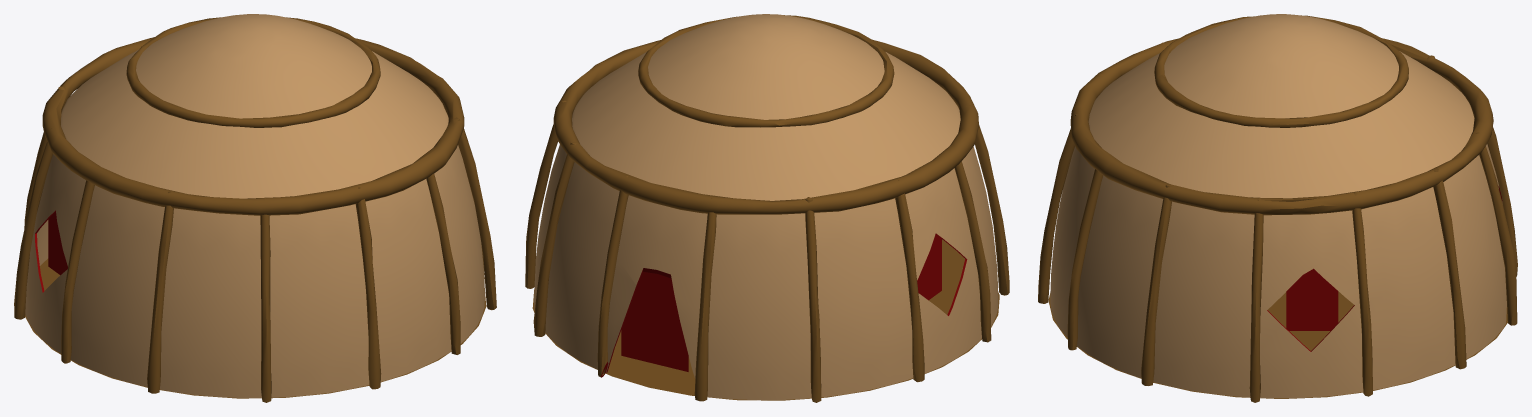
Rendered from Häuser-Wichtel.fbx.
3 views of the same model, side by side, from view 1: azimuth 30°, elevation 25°; view 2: azimuth 150°, elevation 25°; view 3: azimuth 270°, elevation 25° (orthographic).
Visible parts, largest first — view 1: Oil_Tank, ast_oben, ast_oben_2, Cylinder_5, Cylinder_3, Cylinder_1, Cylinder_1_4, Cylinder_1_6, Cylinder_7, Cylinder_1_2_3, boden, vorhang_links (+1 smaller); view 2: Oil_Tank, ast_oben, türe, ast_oben_2, boden, Cylinder_9, Cylinder_7, Cylinder_1_8, Cylinder_11, Cylinder_1_6, Cylinder_1_10, Cylinder_5 (+2 smaller); view 3: Oil_Tank, ast_oben, ast_oben_2, vorhang_rechts, Cylinder_11, Cylinder_1, Cylinder_1_0, Cylinder_1_12, Cylinder_1_10, Cylinder_1_2_3, Cylinder_3, boden (+1 smaller).
Part boxes in pixels (x1,y1,x2,y2): Oil_Tank: [25, 14, 484, 397]; ast_oben: [42, 37, 464, 215]; ast_oben_2: [126, 17, 380, 127]; Cylinder_5: [147, 190, 173, 393]; Cylinder_3: [355, 187, 381, 389]; Cylinder_1: [452, 117, 496, 310]; Cylinder_1_4: [260, 197, 271, 402]; Cylinder_1_6: [61, 180, 94, 363]; Cylinder_7: [14, 128, 56, 319]; Cylinder_1_2_3: [426, 173, 460, 354]; boden: [25, 258, 486, 398]; vorhang_links: [48, 212, 67, 275]; Oil_Tank: [534, 14, 998, 400]; ast_oben: [553, 39, 978, 214]; türe: [621, 272, 688, 371]; ast_oben_2: [638, 14, 894, 127]; boden: [532, 239, 999, 400]; Cylinder_9: [694, 196, 716, 401]; Cylinder_7: [895, 178, 924, 382]; Cylinder_1_8: [805, 197, 821, 402]; Cylinder_11: [533, 142, 577, 336]; Cylinder_1_6: [954, 161, 991, 342]; Cylinder_1_10: [597, 176, 628, 377]; Cylinder_5: [965, 105, 1009, 295]; Oil_Tank: [1050, 14, 1506, 398]; ast_oben: [1070, 38, 1493, 215]; ast_oben_2: [1154, 15, 1408, 127]; vorhang_rechts: [1286, 268, 1338, 330]; Cylinder_11: [1432, 168, 1466, 369]; Cylinder_1: [1141, 184, 1172, 385]; Cylinder_1_0: [1249, 197, 1263, 402]; Cylinder_1_12: [1352, 192, 1372, 396]; Cylinder_1_10: [1475, 132, 1517, 325]; Cylinder_1_2_3: [1067, 169, 1103, 350]; Cylinder_3: [1038, 114, 1077, 303]; boden: [1048, 291, 1507, 398].
Size of the model in its own units: 840 by 532 by 838.
